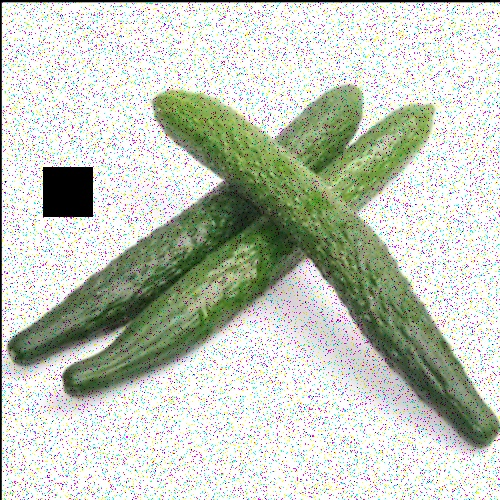cucumber: (156, 88, 494, 438), (72, 102, 434, 399), (9, 86, 357, 351)
